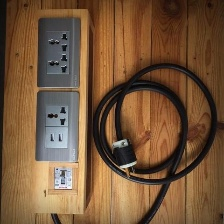three_eye_plug: (34, 14, 83, 88), (32, 90, 80, 162)
